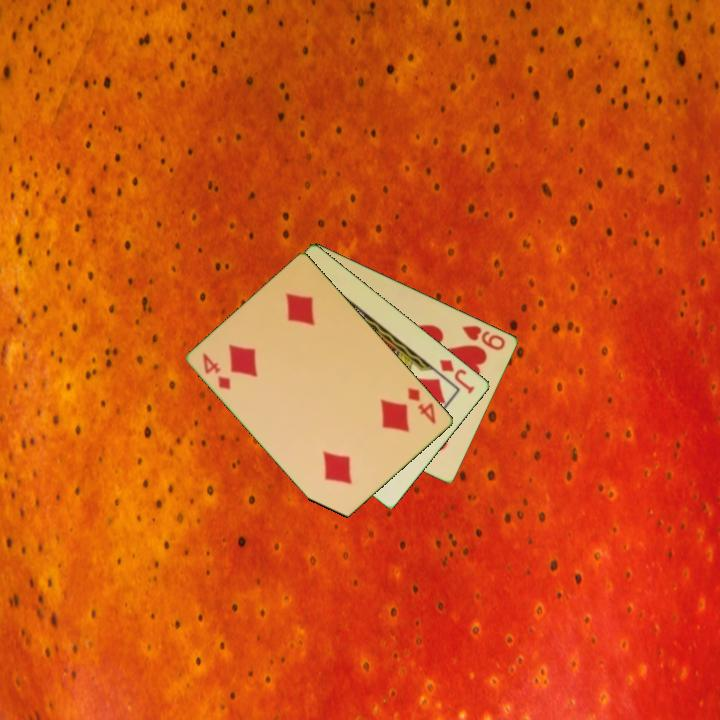4d: (199, 349, 234, 393), (404, 384, 439, 427)
9h: (458, 322, 509, 353)
Jd: (436, 356, 478, 397)
